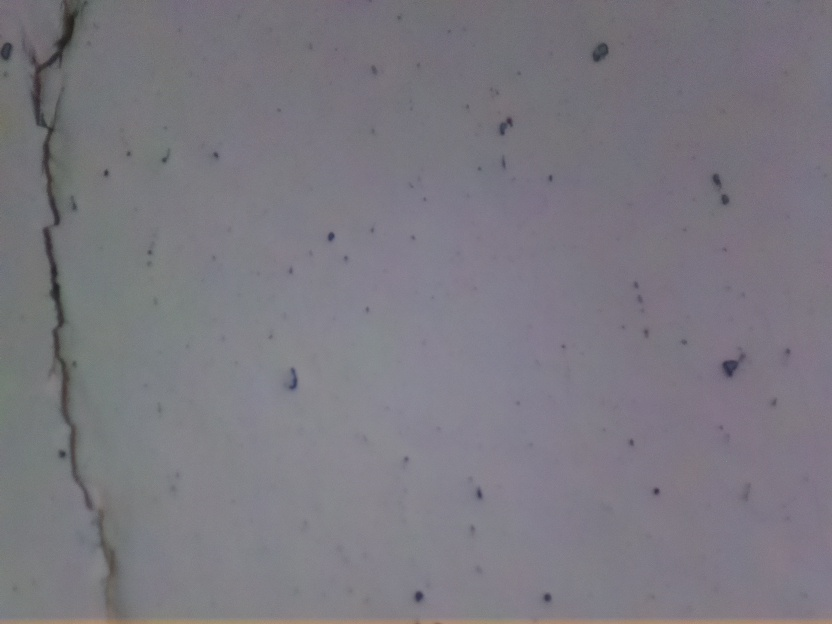crack: (28, 0, 126, 613)
